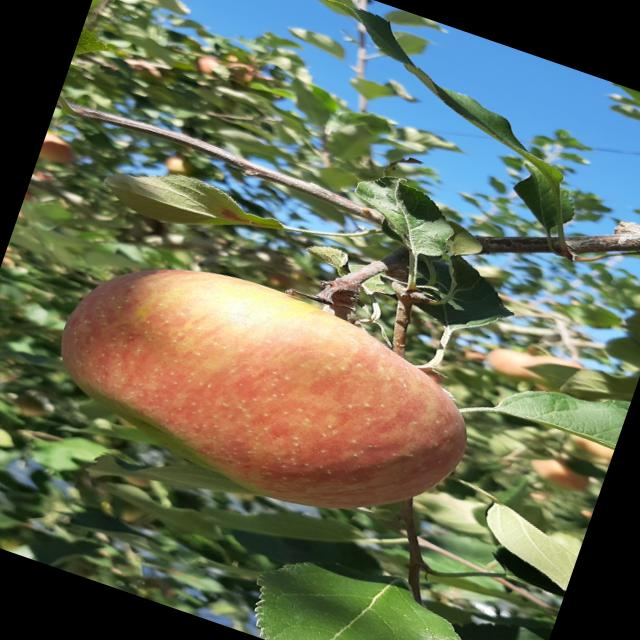fresh: (21, 217, 507, 562)
